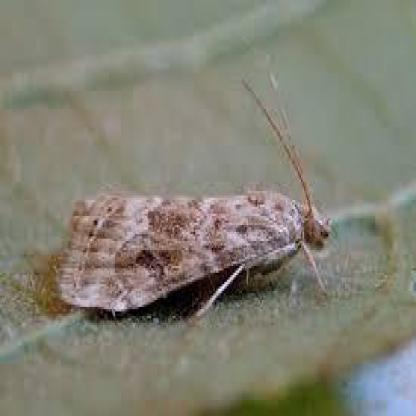Hellula undalis: (42, 41, 346, 333)
